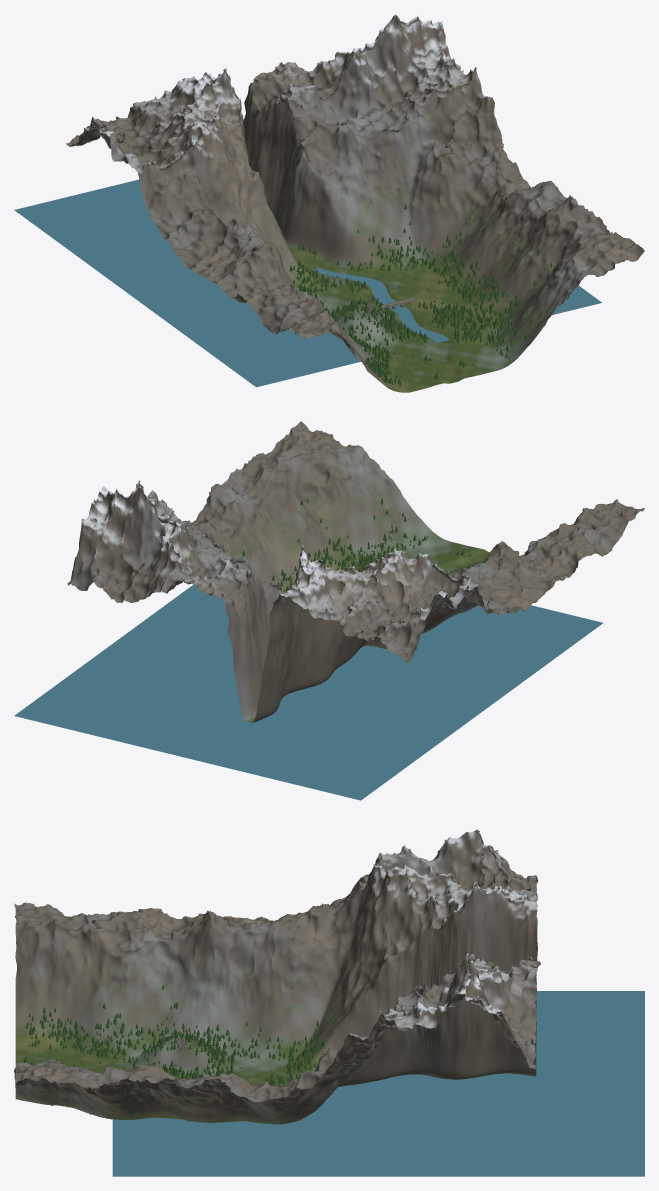
File: misty-valley.glb
3 views of the same model, one above another, from view 1: azimuth 30°, elevation 25°; view 2: azimuth 150°, elevation 25°; view 3: azimuth 270°, elevation 25° (orthographic). The views are drawn at different scales.
Visible parts, largest first — view 1: Terrain, River, MERGED_M_Foliage; view 2: Terrain, River, MERGED_M_Foliage; view 3: Terrain, River, MERGED_M_Foliage.
Part boxes in pixels (x1,y1,x2,y2): Terrain: [66, 14, 644, 392]; River: [14, 179, 601, 387]; MERGED_M_Foliage: [289, 203, 552, 385]; Terrain: [67, 421, 644, 722]; River: [14, 584, 602, 800]; MERGED_M_Foliage: [242, 498, 469, 629]; Terrain: [14, 829, 540, 1124]; River: [112, 991, 644, 1176]; MERGED_M_Foliage: [24, 985, 333, 1119].
Bounding box in the file's own units: 938 × 472 × 1347.
